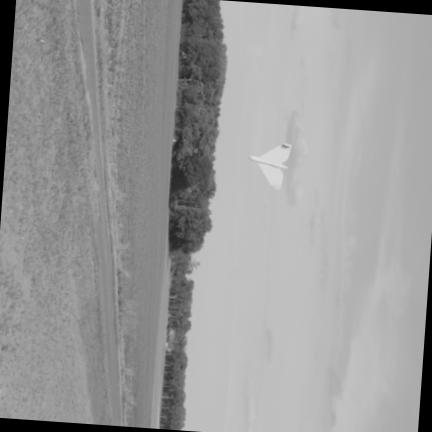Shahed: (248, 143, 289, 188)
